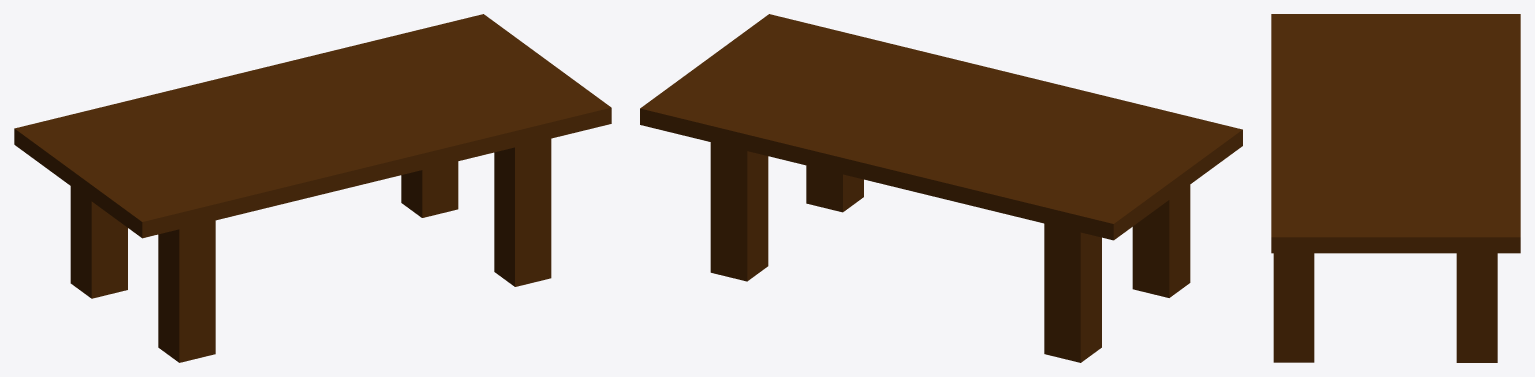
Rendered from table.fbx.
3 views of the same model, side by side, from view 1: azimuth 30°, elevation 25°; view 2: azimuth 150°, elevation 25°; view 3: azimuth 270°, elevation 25° (orthographic). The views are drawn at different scales.
Visible parts, largest first — view 1: root (×5); view 2: root (×5); view 3: root (×3).
Part boxes in pixels (bbox=[...]): root (×5): bbox=[14, 14, 611, 362]; root (×5): bbox=[640, 14, 1242, 362]; root (×3): bbox=[1271, 14, 1520, 362].
Size of the model in its own units: 0.443 by 0.1418 by 0.2091.
